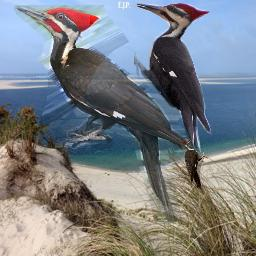Woodpecker: (14, 5, 191, 223), (134, 3, 212, 152), (180, 138, 208, 190)
